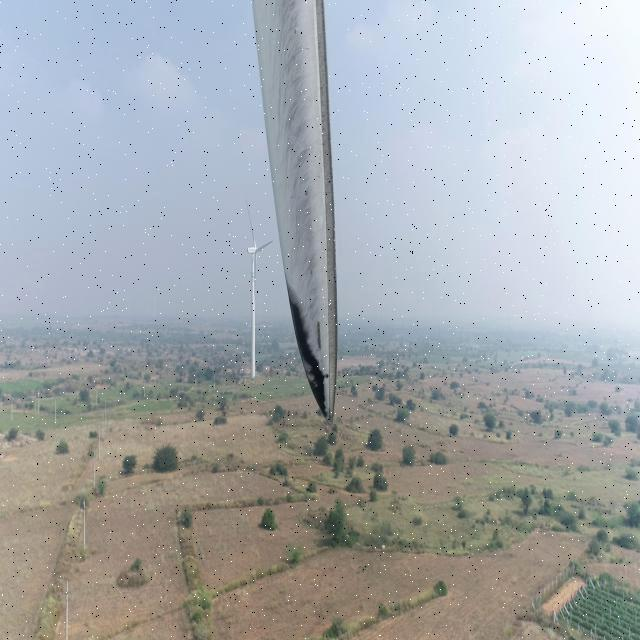Dirt: (257, 0, 336, 413)
Oil LEAKAGE: (285, 282, 330, 416)
Pin Hole: (320, 370, 333, 384), (299, 188, 314, 198)
